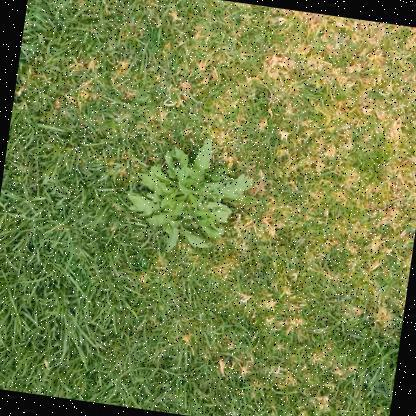Weeds: (120, 128, 265, 264)
